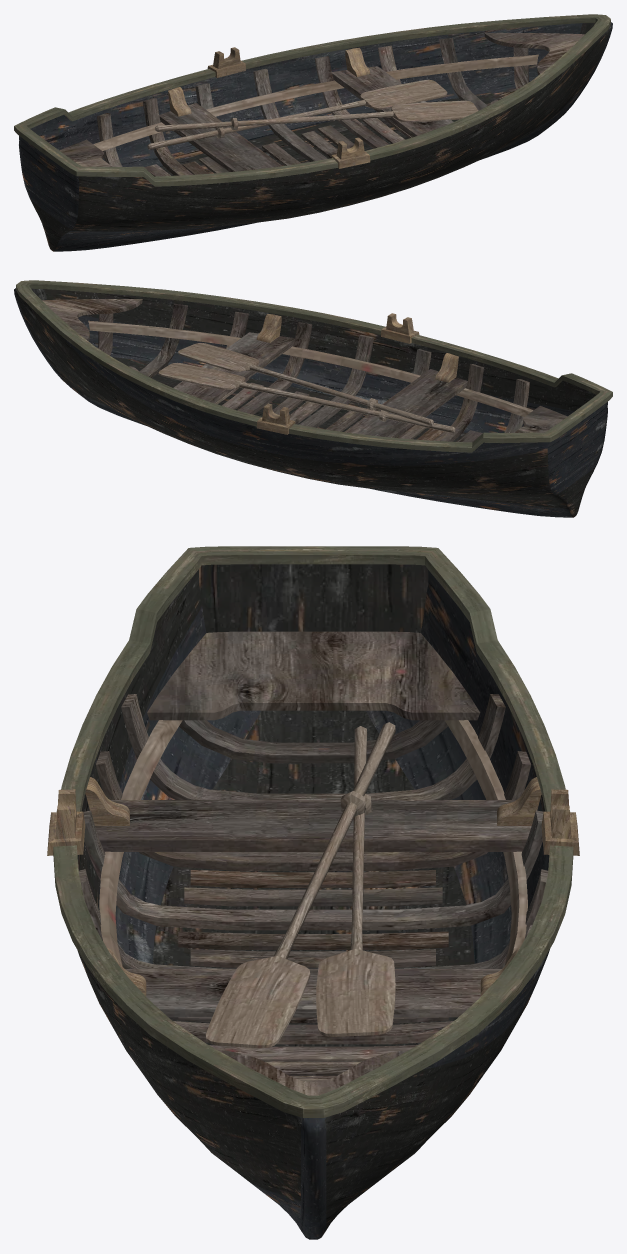
Rendered from ti_boat.glb.
The picture shows the model from 3 angles, top to bottom: view 1: azimuth 30°, elevation 25°; view 2: azimuth 150°, elevation 25°; view 3: azimuth 270°, elevation 25°; orthographic projection. The views are drawn at different scales.
Visible parts, largest first — view 1: KB3D_TIS_Boat_A_Main; view 2: KB3D_TIS_Boat_A_Main; view 3: KB3D_TIS_Boat_A_Main.
Part boxes in pixels (<box>): KB3D_TIS_Boat_A_Main: <box>14,14,612,251</box>; KB3D_TIS_Boat_A_Main: <box>14,280,612,517</box>; KB3D_TIS_Boat_A_Main: <box>47,546,579,1239</box>.
Bounding box in the file's own units: 3.86 × 0.8192 × 1.57.
Materials: 5 (5 with a texture image).
